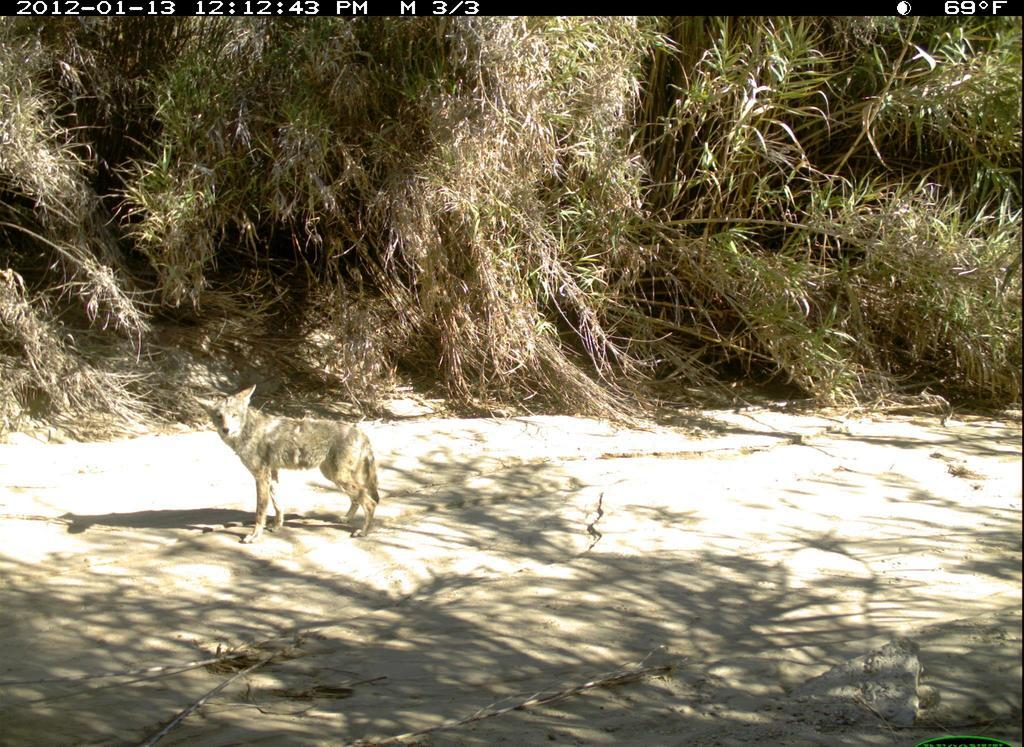coyote: (198, 370, 411, 561)
